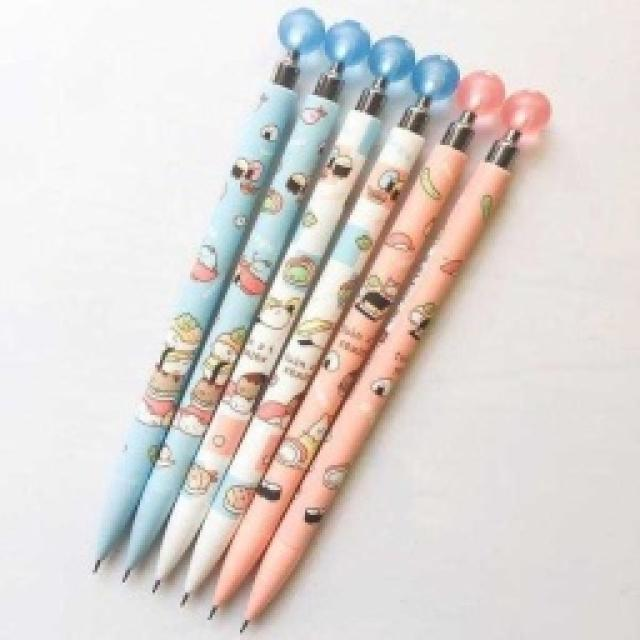pencil: (87, 3, 555, 635)
